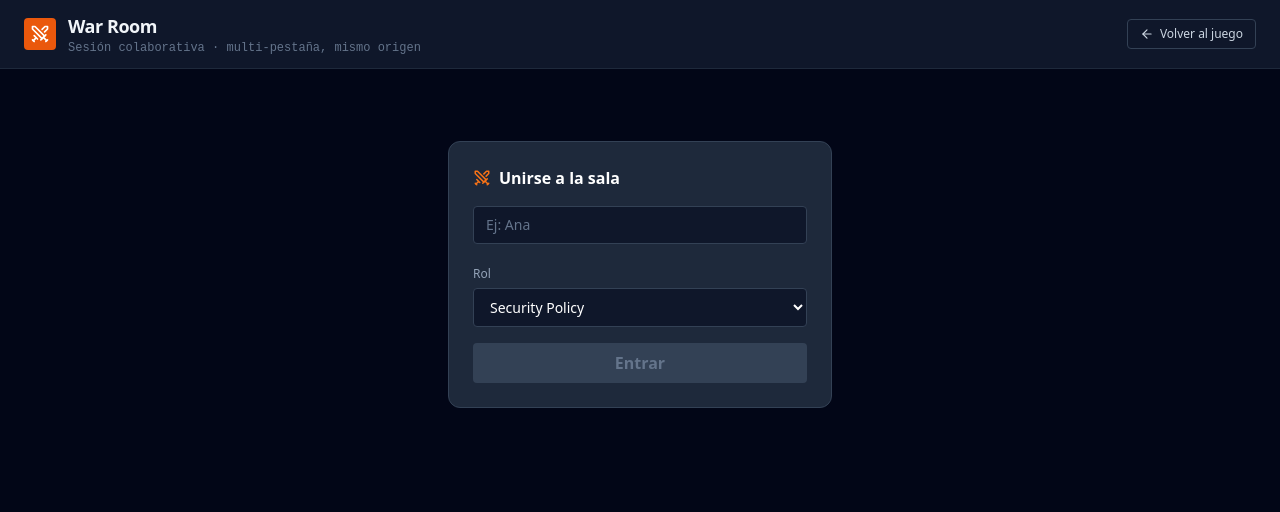
WarRoom — permisos por rol › el validador ve el commit habilitado
Step 1. Type "Ana" into the field named "tu nombre" → (640, 225), box [473,206,807,244]
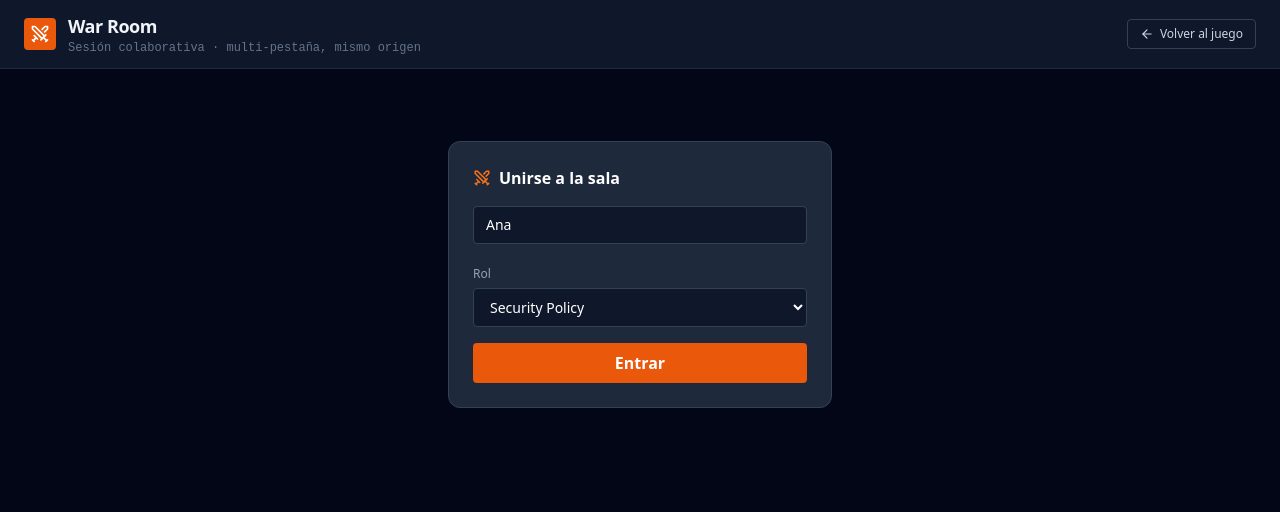
Step 2. Select "Validador" in the dropdown named "rol" → (640, 308), box [473,288,807,327]
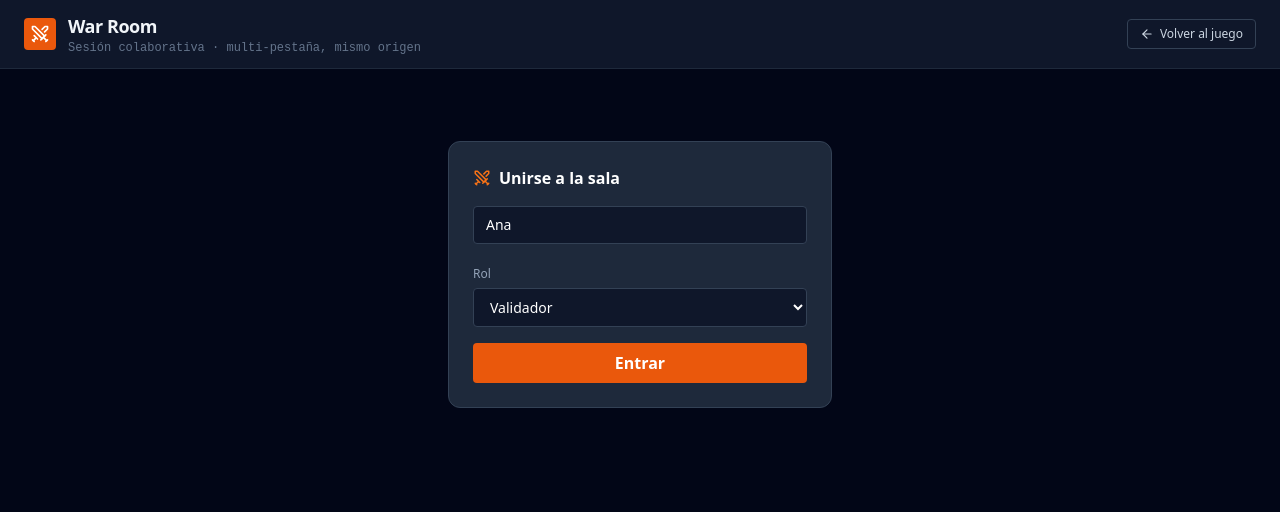
Step 3. Click the button "Entrar" → (640, 363), box [473,343,807,383]
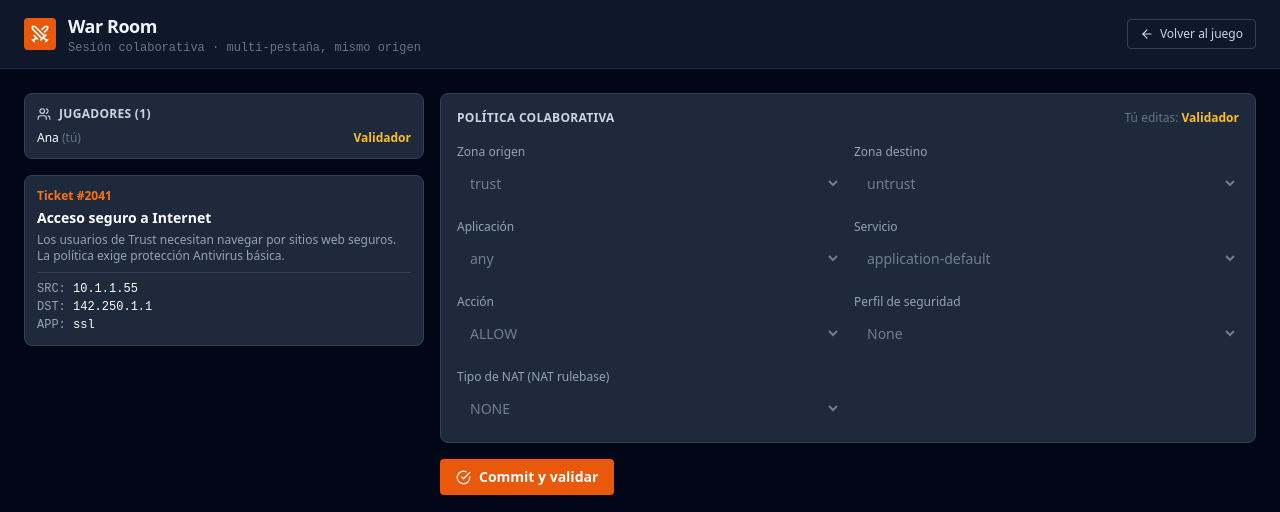
Expected: the button "Commit y validar" is enabled, [440,459,614,495]
